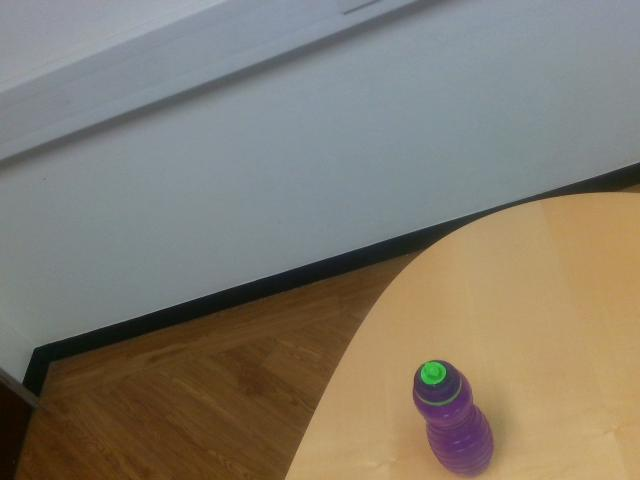bottle: (412, 360, 496, 480)
